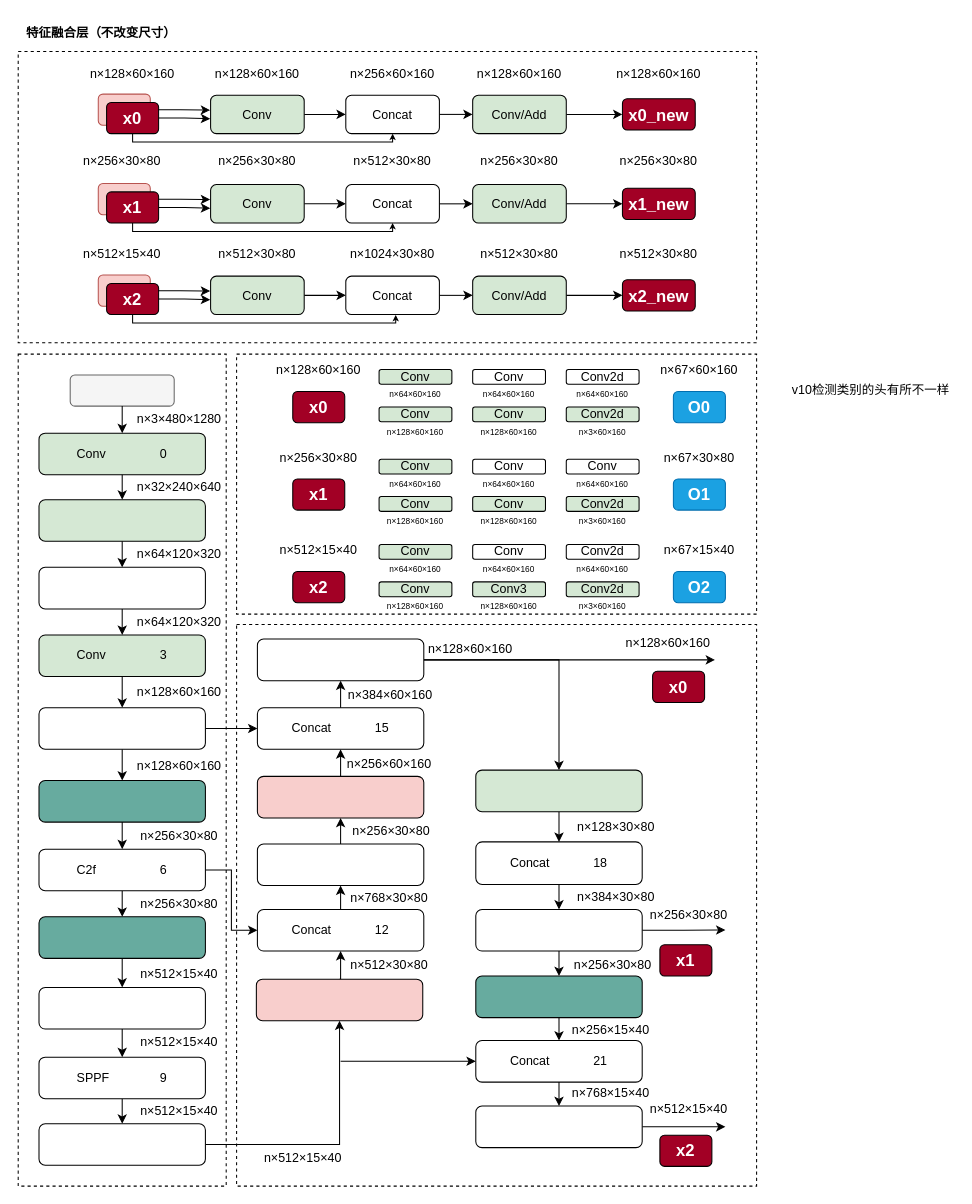
The diagram is 972 pixels wide and 1204 high, and some of its shapes have lost their labels. The shapes that lost their labels are listed below. From the top down, each one's centre as x and y in pixels, then its label:
(121,390): Input
(121,520): Conv 1
(121,587): C2f 2
(340,659): C 2f 16
(121,728): C2f 4
(121,800): SCDown 5
(340,796): UpSample 14
(558,790): Conv 17
(340,864): C 2f 13
(121,937): SCDown 7
(558,929): C2f 19
(121,1007): C2fCIB 8
(339,999): UpSample 11
(558,996): SCDown 20
(121,1144): PSA 10
(558,1126): C2fCIB 22
